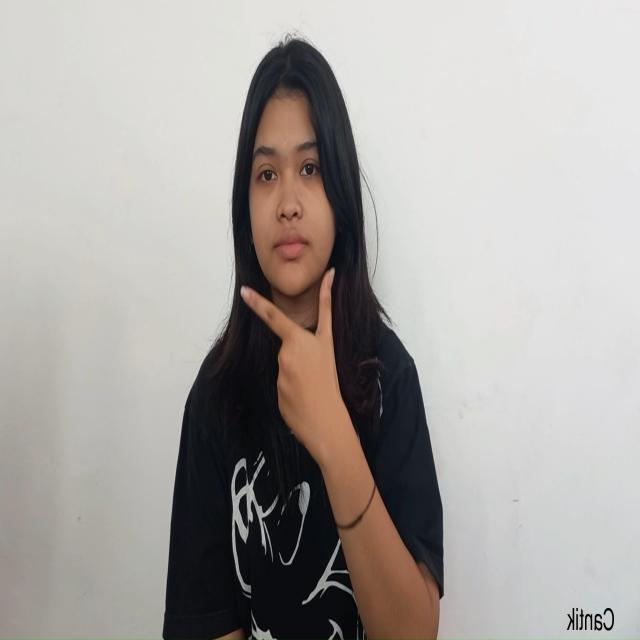Cantik -BISINDO-: (239, 265, 344, 474)
